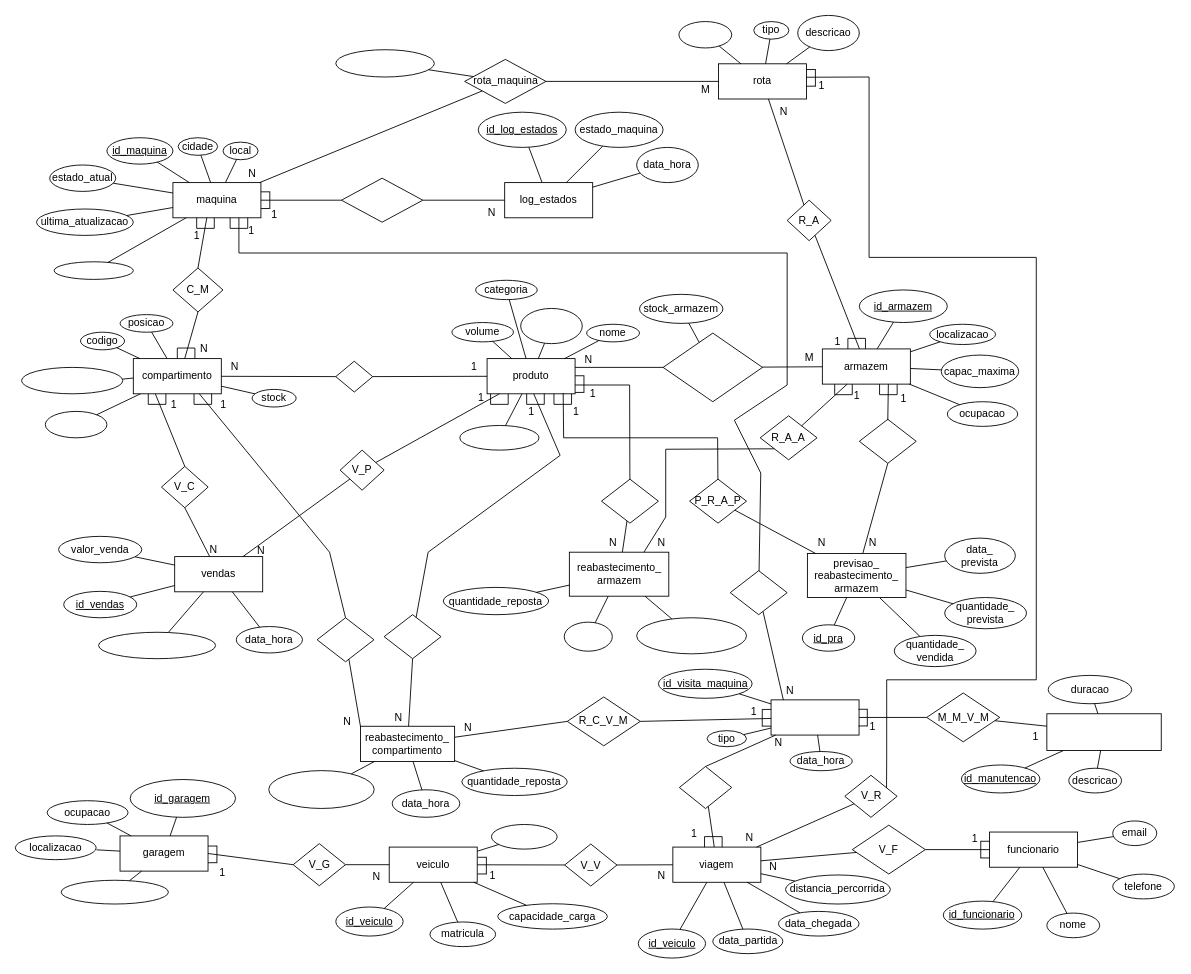
This 1191x974 diagram has some shape labels left out. The shapes that lost their labels are listed below. From the top down, each one's centre as x and y in pixels, then its label:
At pixel 705 34: "id_rota".
At pixel 384 63: "ordem_maquinas".
At pixel 382 199: "L_E_M".
At pixel 93 270: "ultima_visita".
At pixel 551 326: "id_produto".
At pixel 72 380: "id_compartimento".
At pixel 354 376: "C_P".
At pixel 712 367: "produto_armazem".
At pixel 75 424: "capac_max".
At pixel 499 437: "preco".
At pixel 887 440: "P_R_A_A".
At pixel 629 500: "R_A_P".
At pixel 758 592: "V_M_M".
At pixel 157 645: "metodo_pagamento".
At pixel 345 639: "R_C_C".
At pixel 412 636: "R_C_P".
At pixel 587 636: "id_ra".
At pixel 691 635: "data_ reabastecimento".
At pixel 814 717: "visita_maquina".
At pixel 1103 732: "manutencao_maquina".
At pixel 321 789: "id_reabastecimento".
At pixel 705 787: "V_M_V".
At pixel 524 836: "autonomia".
At pixel 114 891: "capacidade_max".
